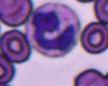N: (29, 2, 80, 57)
